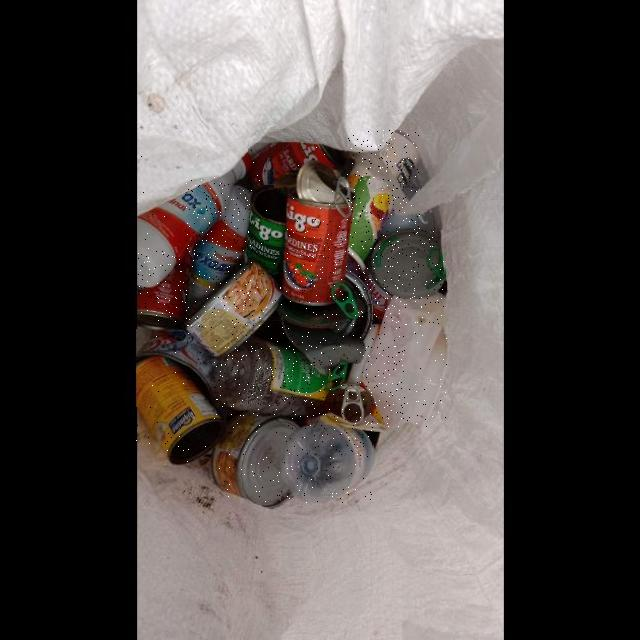metal: (136, 153, 251, 288), (282, 159, 352, 303), (136, 357, 223, 465), (185, 262, 281, 356), (212, 413, 299, 506), (280, 304, 372, 391), (249, 142, 352, 219), (362, 230, 445, 319), (136, 329, 218, 407), (280, 271, 372, 328), (243, 186, 287, 286), (136, 251, 192, 327), (306, 385, 388, 428)
paper: (348, 130, 420, 271)
plastic: (361, 293, 445, 428), (213, 340, 340, 417), (186, 183, 252, 307), (282, 424, 373, 504), (405, 326, 447, 430)
